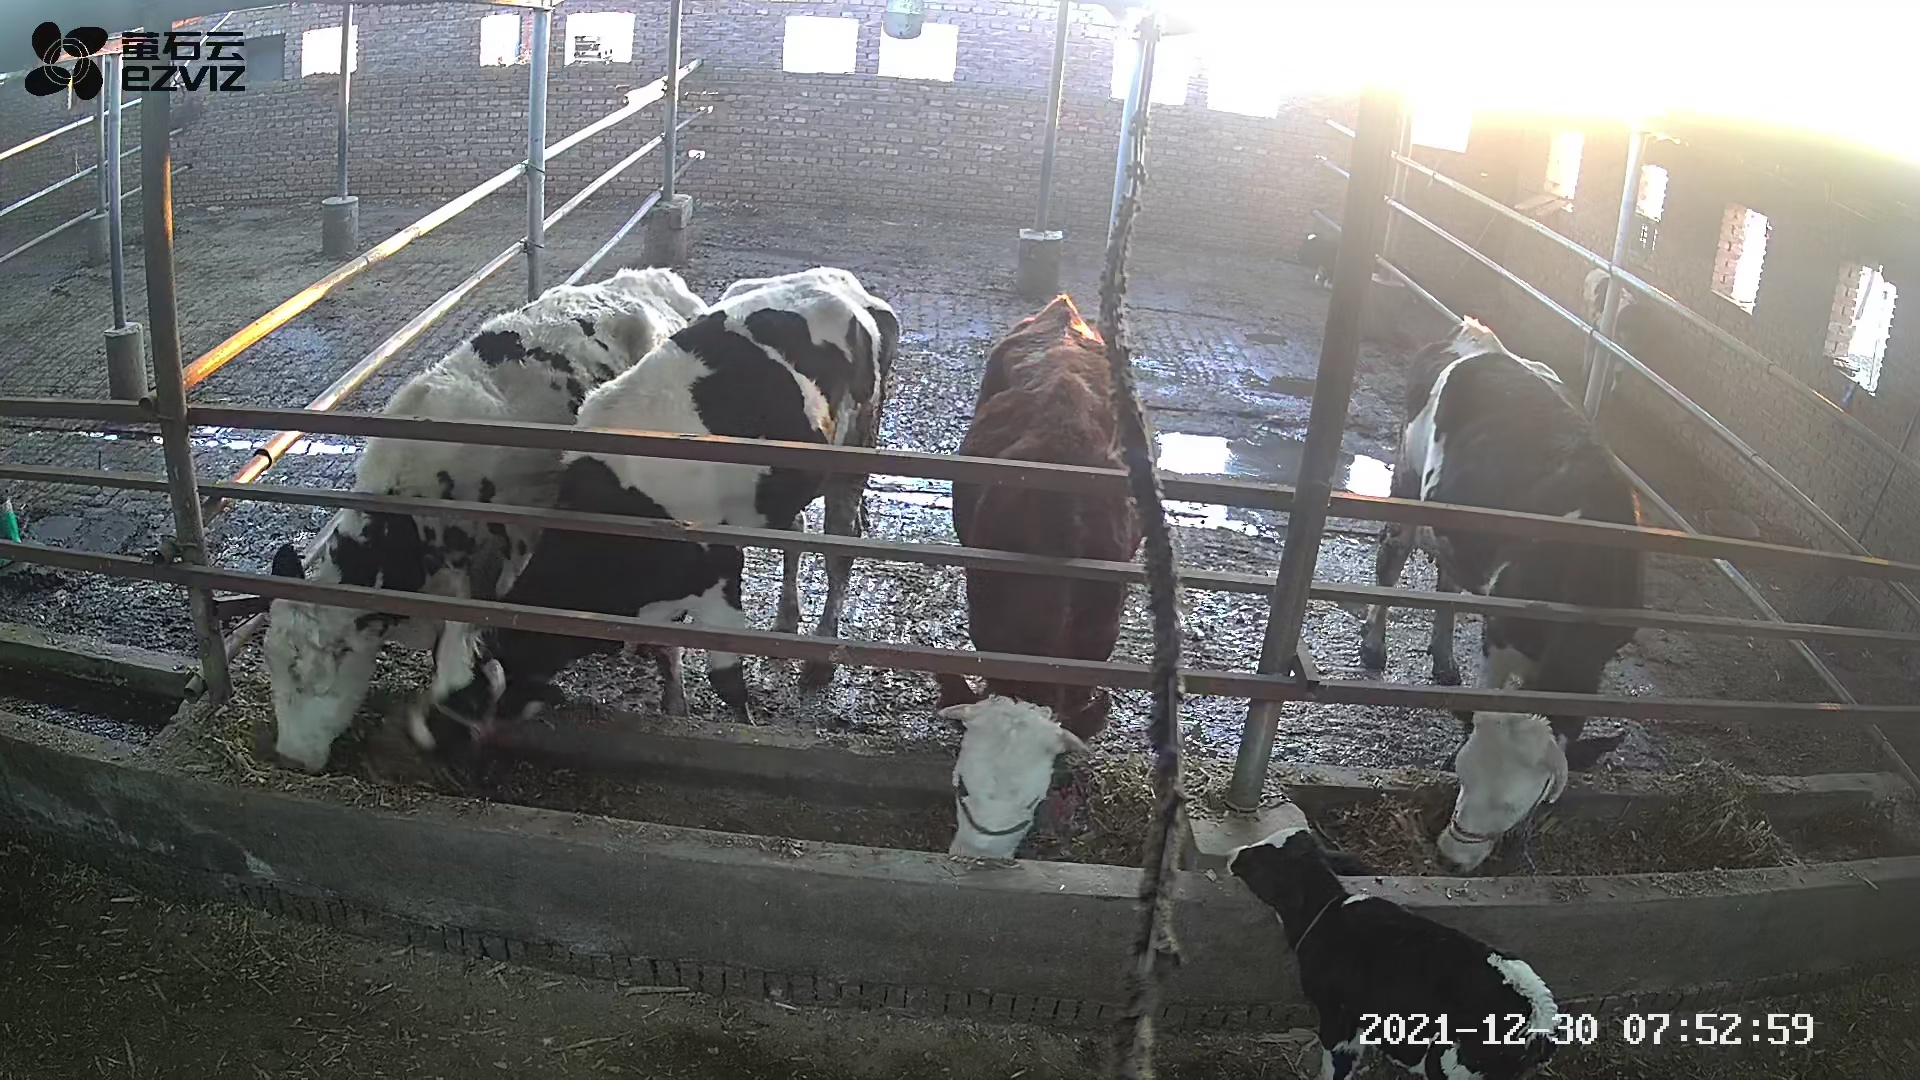cow: (404, 266, 901, 762), (258, 265, 712, 778), (1361, 315, 1647, 873), (936, 290, 1149, 860)
